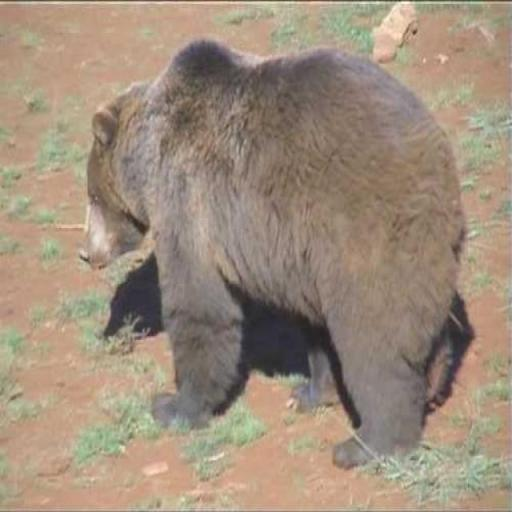Bear: (78, 35, 474, 470)
